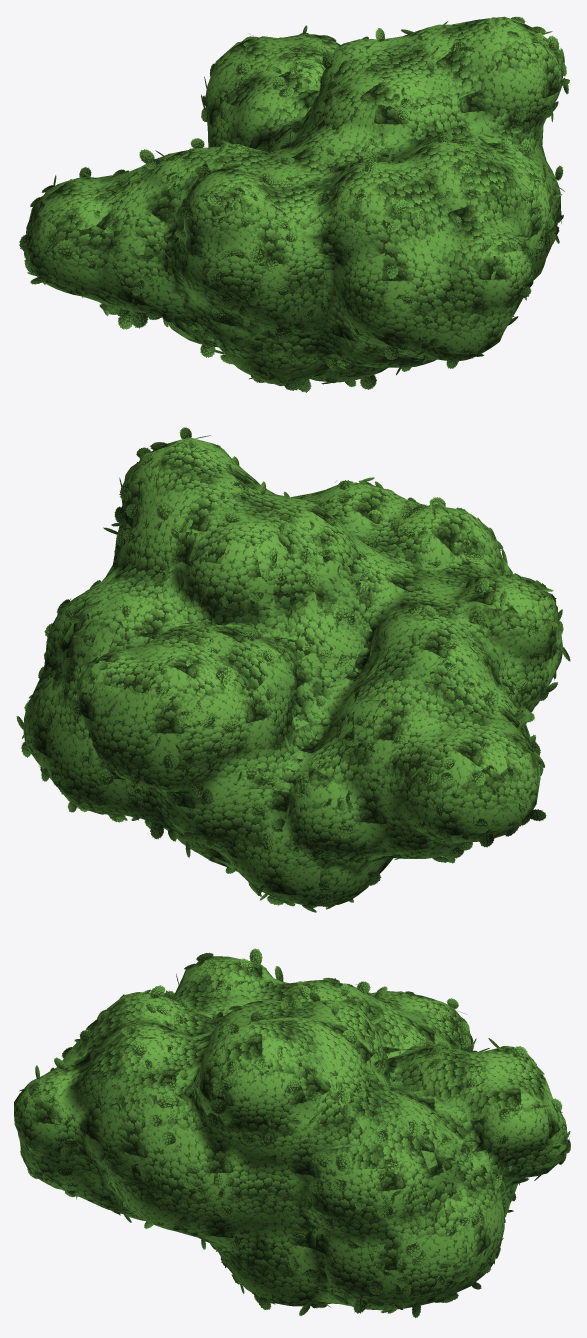
Rendered from ballbush_v2.glb.
3 views of the same model, one above another, from view 1: azimuth 30°, elevation 25°; view 2: azimuth 150°, elevation 25°; view 3: azimuth 270°, elevation 25° (orthographic). The views are drawn at different scales.
Visible parts, largest first — view 1: ballbush_v2_volume_LOD0, ballbush_v2_leaves_LOD0; view 2: ballbush_v2_volume_LOD0, ballbush_v2_leaves_LOD0; view 3: ballbush_v2_volume_LOD0, ballbush_v2_leaves_LOD0.
Part boxes in pixels (x1=…): ballbush_v2_volume_LOD0: x1=26, y1=16, x2=562, y2=385; ballbush_v2_leaves_LOD0: x1=19, y1=16, x2=569, y2=392; ballbush_v2_volume_LOD0: x1=23, y1=437, x2=562, y2=906; ballbush_v2_leaves_LOD0: x1=16, y1=427, x2=570, y2=912; ballbush_v2_volume_LOD0: x1=14, y1=956, x2=567, y2=1310; ballbush_v2_leaves_LOD0: x1=17, y1=948, x2=570, y2=1317.
Size of what is drawn, in the model's own units: 2.4 by 1.66 by 2.45.
2 materials, 2 textured.
